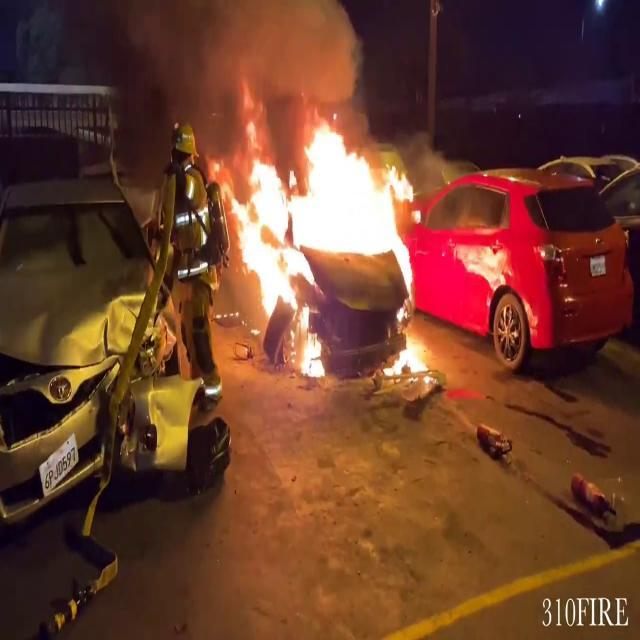Fire: (225, 107, 430, 376), (378, 324, 440, 388)
